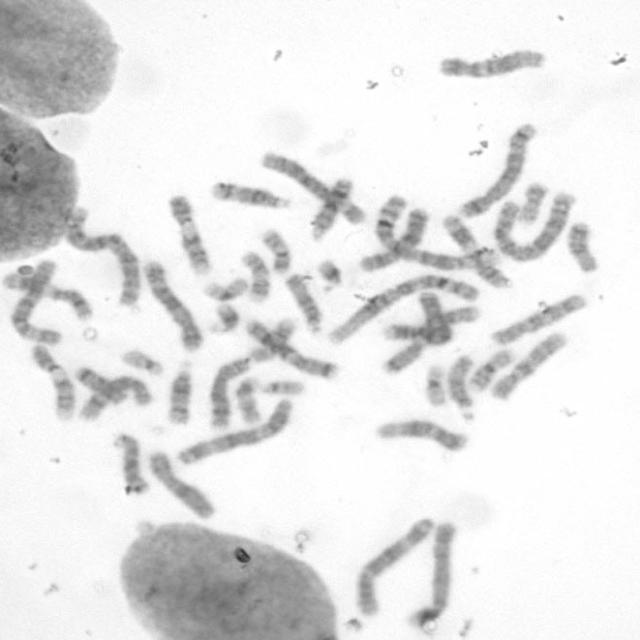A1: (327, 273, 481, 347), (373, 194, 498, 272)
A2: (67, 204, 143, 308), (492, 190, 575, 264)
A3: (353, 514, 436, 619), (176, 399, 296, 466)
B4: (408, 519, 460, 630), (384, 292, 454, 346)
B5: (459, 120, 538, 219), (138, 260, 204, 354)
C10: (489, 329, 568, 404), (489, 292, 587, 346)
C11: (442, 213, 514, 289), (1, 271, 94, 320)
C12: (438, 46, 544, 80), (376, 419, 470, 453)
C6: (258, 150, 370, 226), (10, 260, 64, 345)
C7: (380, 303, 482, 376), (244, 316, 343, 380)
C8: (78, 373, 154, 423), (206, 356, 254, 432)
C9: (29, 346, 76, 422), (167, 194, 212, 272)
D13: (309, 177, 352, 242), (111, 433, 149, 496)
D14: (208, 181, 294, 209), (164, 358, 194, 426)
D15: (285, 272, 323, 336), (447, 354, 478, 425)
E16: (468, 347, 516, 393), (250, 318, 296, 363)
E17: (238, 251, 272, 305), (232, 378, 264, 423)
E18: (72, 365, 128, 405), (566, 223, 598, 272)
F19: (201, 276, 250, 302), (423, 364, 449, 409)
F20: (260, 228, 294, 275), (517, 180, 549, 223)
G21: (205, 302, 241, 335), (316, 257, 346, 294)
G22: (119, 348, 166, 376), (259, 377, 308, 398)
X: (355, 207, 429, 273), (149, 451, 217, 519)
